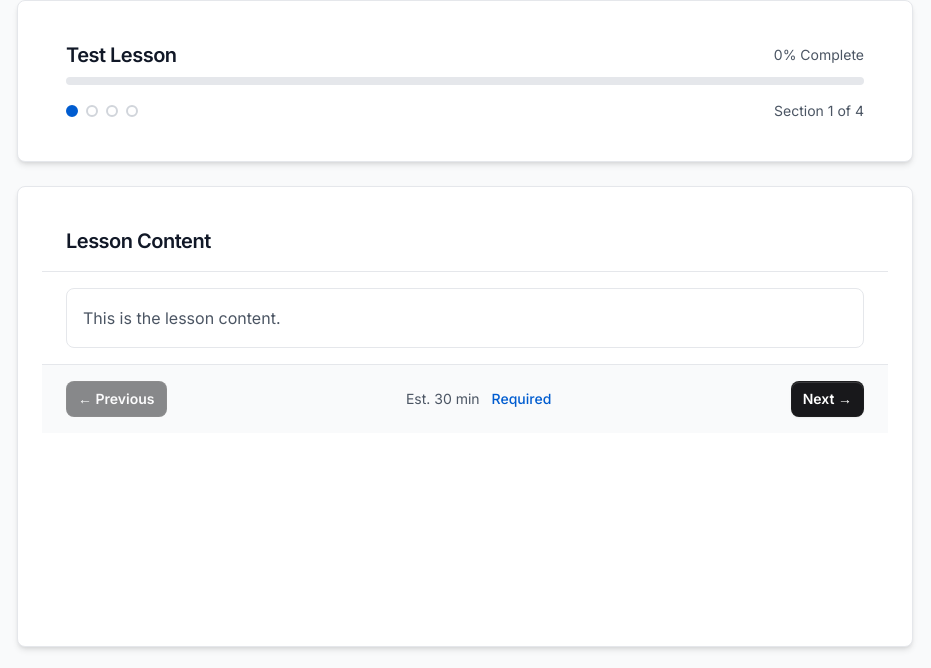
LessonViewer › Navigation › navigates to next section when next button is clicked
Click the button "Next →". click: coordinates (827, 399)
box: [791,381,864,417]
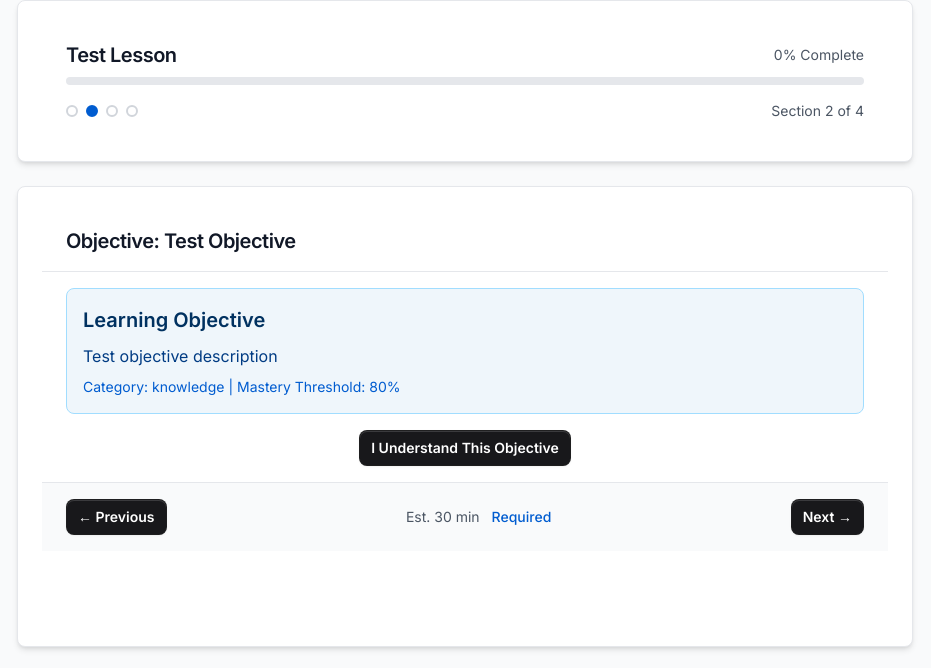
Now the heading "Objective: Test Objective" is shown, box [66,227,296,255]
